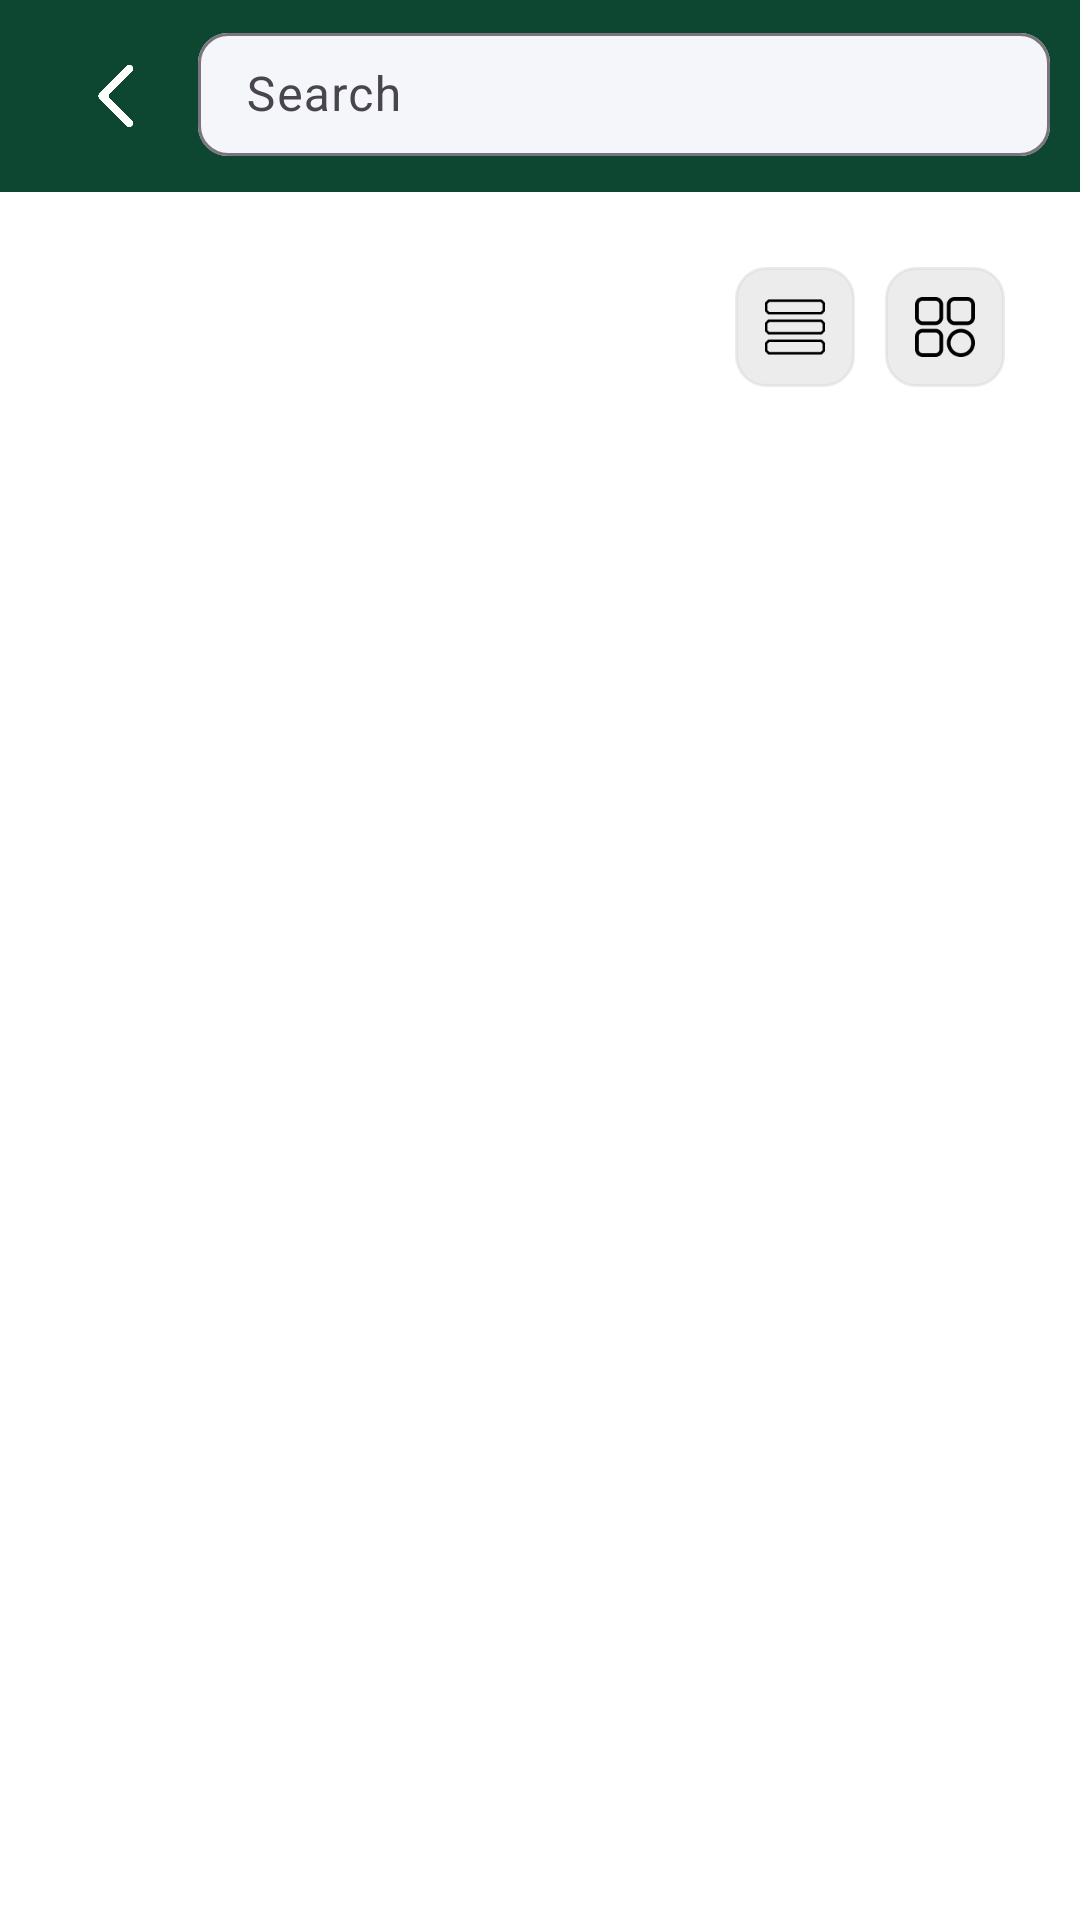

Locate icon controls on the screen. Image size 1080×1920, boxes as detection(x1, y1, x2, y2).
back to previous activity: detection(98, 65, 133, 127)
hamburger: detection(765, 299, 825, 355)
